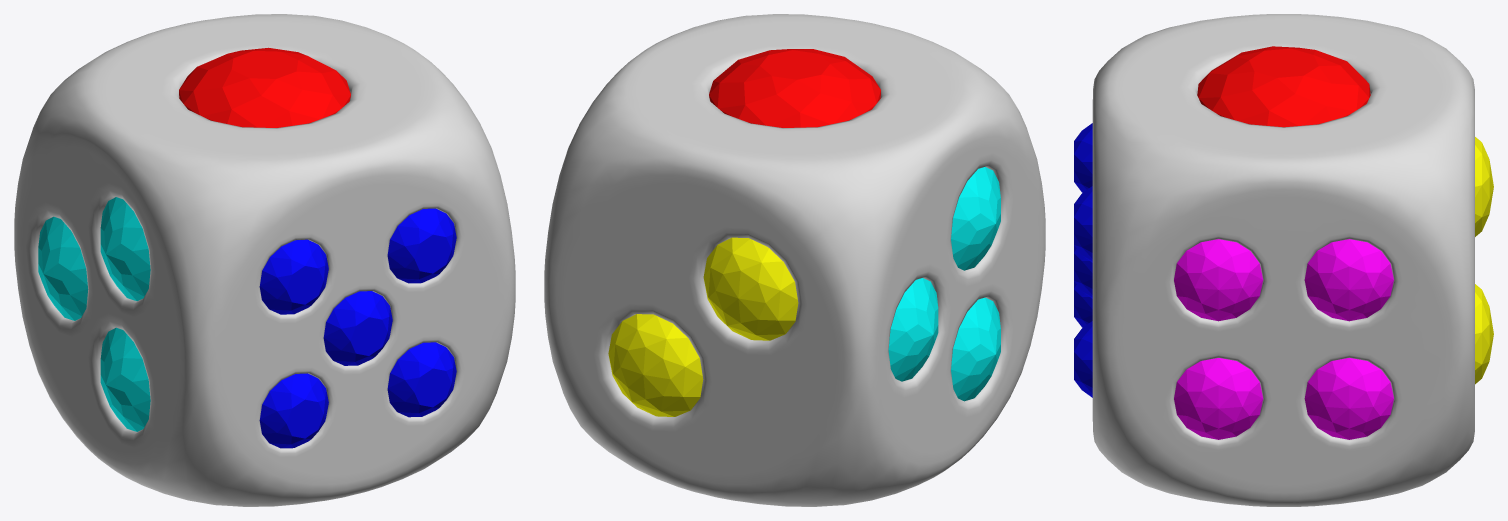
The model's file is Precious.glb.
3 views of the same model, side by side, from view 1: azimuth 30°, elevation 25°; view 2: azimuth 150°, elevation 25°; view 3: azimuth 270°, elevation 25° (orthographic).
Visible parts, largest first — view 1: Gem; view 2: Gem; view 3: Gem.
Part boxes in pixels (x1,y1,x2,y2): Gem: (14, 14, 515, 506); Gem: (544, 14, 1045, 506); Gem: (1074, 14, 1493, 506).
Size of the model in its own units: 0.5489 by 0.5592 by 0.5493.
